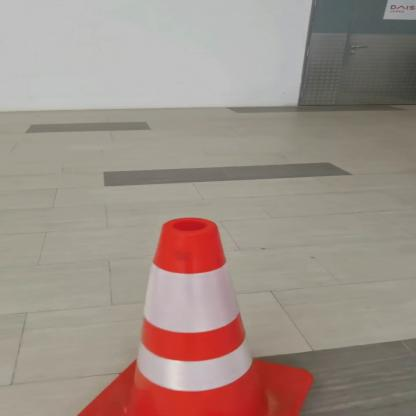cone: (41, 215, 342, 415)
